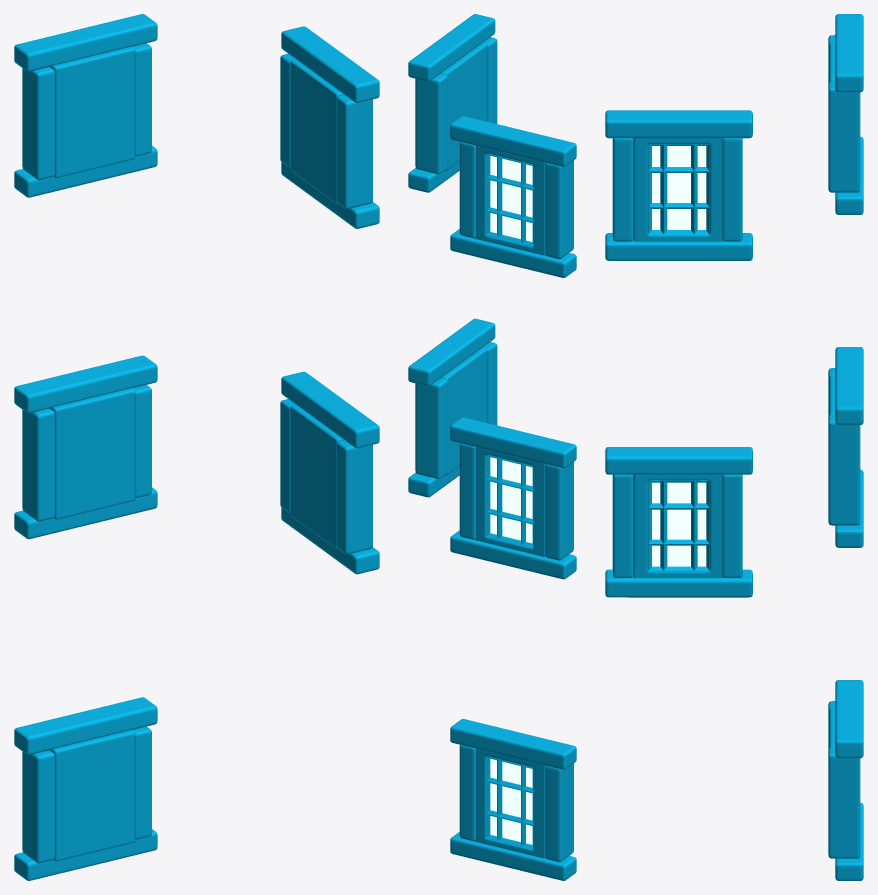
Rendered from SM_Stone_Window_04.fbx.
3 renders of one model, left to right at view 1: azimuth 30°, elevation 25°; view 2: azimuth 150°, elevation 25°; view 3: azimuth 270°, elevation 25°, orthographic. The views are drawn at different scales.
Parts seen in each view (by area): view 1: SM_Stone_Window_04; view 2: SM_Stone_Window_04; view 3: SM_Stone_Window_04.
Part boxes in pixels (x1,y1,x2,y2): SM_Stone_Window_04: (14,14,379,880); SM_Stone_Window_04: (408,14,576,880); SM_Stone_Window_04: (605,14,863,880).
Bounding box in the file's own units: 1.8 × 6.07 × 1.75.
